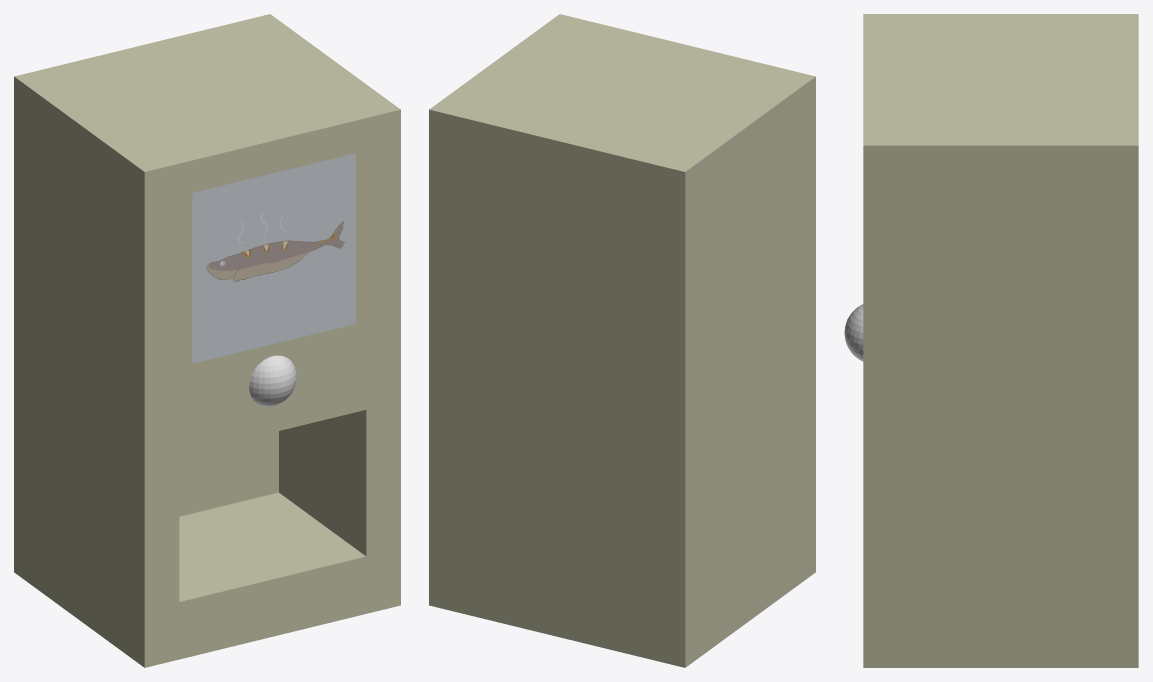
File: skn_zihanki.fbx
The picture shows the model from 3 angles, left to right: view 1: azimuth 30°, elevation 25°; view 2: azimuth 150°, elevation 25°; view 3: azimuth 270°, elevation 25°; orthographic projection. The views are drawn at different scales.
Parts seen in each view (by area): view 1: 立方体, 平面, 球; view 2: 立方体; view 3: 立方体, 球.
Boxes of the visible parts, x1=… form: 立方体: x1=14, y1=14, x2=400, y2=667; 平面: x1=192, y1=153, x2=355, y2=363; 球: x1=249, y1=355, x2=296, y2=406; 立方体: x1=429, y1=14, x2=815, y2=667; 立方体: x1=863, y1=14, x2=1138, y2=667; 球: x1=844, y1=304, x2=863, y2=361.
Bounding box in the file's own units: 226 × 419 × 214.
